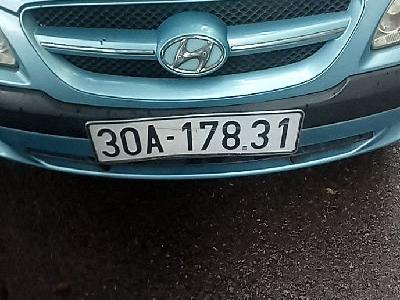number: (85, 112, 300, 163)
